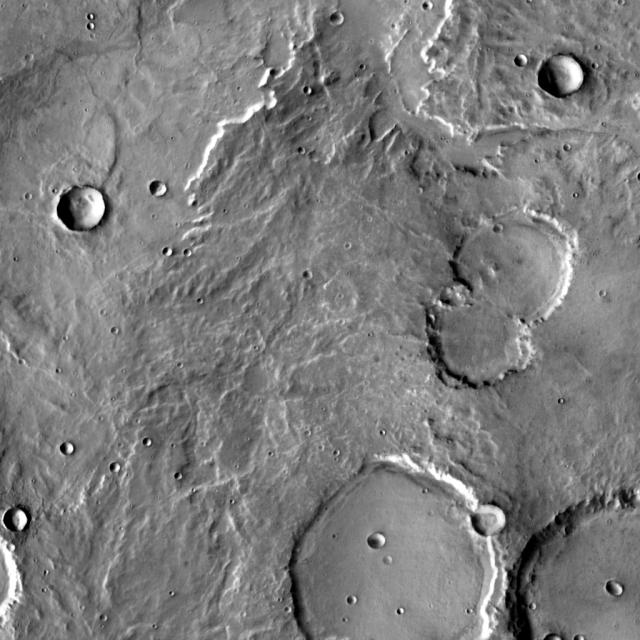crater: (289, 465, 511, 640), (512, 495, 639, 640), (0, 71, 116, 216), (455, 209, 578, 329), (426, 279, 536, 384), (58, 186, 105, 232), (539, 52, 584, 96), (473, 504, 507, 537), (4, 509, 28, 532), (370, 532, 387, 550), (150, 181, 167, 198), (607, 582, 624, 598), (61, 443, 74, 456), (332, 13, 345, 25), (516, 54, 528, 66), (384, 555, 395, 566), (348, 596, 358, 606), (110, 464, 120, 474), (164, 248, 174, 258), (516, 619, 526, 629), (425, 1, 434, 10), (496, 223, 505, 232), (304, 270, 314, 278), (427, 314, 437, 322), (565, 142, 573, 150), (528, 603, 536, 611), (599, 291, 607, 299), (26, 54, 34, 62), (298, 147, 306, 155), (7, 544, 15, 552), (82, 16, 89, 24), (298, 79, 306, 86), (144, 439, 152, 446), (585, 56, 592, 64), (93, 610, 100, 617), (168, 467, 175, 474), (339, 235, 346, 242), (178, 243, 186, 249), (392, 600, 398, 608), (80, 8, 88, 14), (18, 188, 26, 194)
